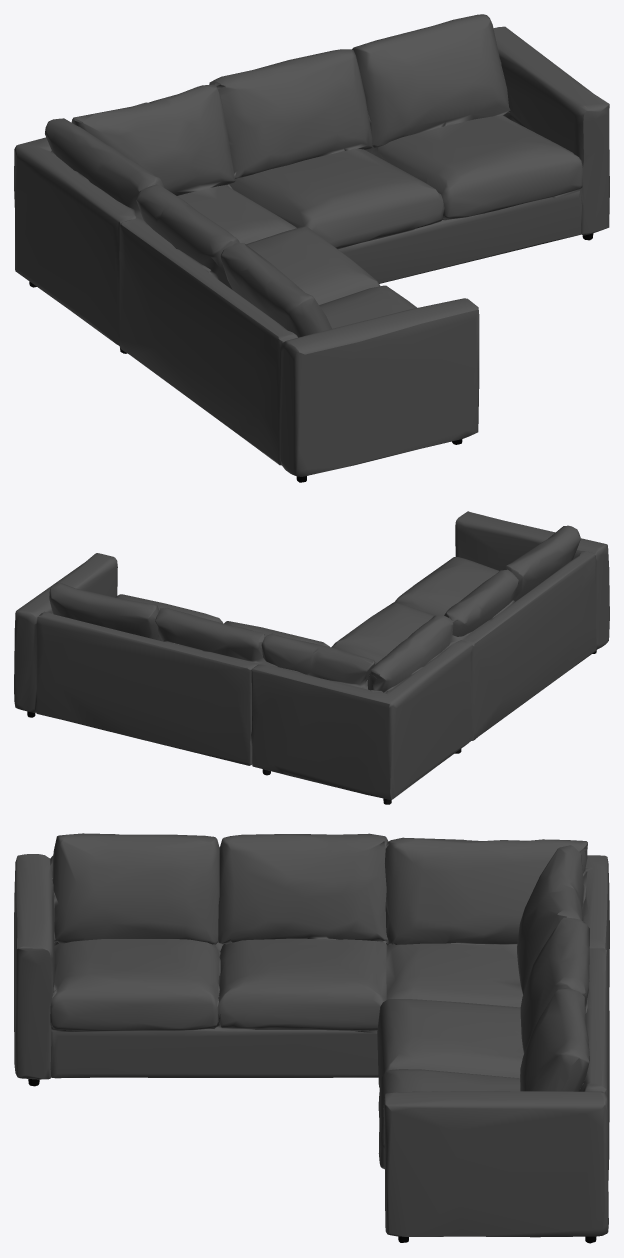
Rendered from ikea-vimle-corner.glb.
The picture shows the model from 3 angles, top to bottom: view 1: azimuth 30°, elevation 25°; view 2: azimuth 150°, elevation 25°; view 3: azimuth 270°, elevation 25°; orthographic projection. The views are drawn at different scales.
Parts seen in each view (by area): view 1: ProcessedMeshNode; view 2: ProcessedMeshNode; view 3: ProcessedMeshNode.
Part boxes in pixels (left/top/right/bottom): ProcessedMeshNode: left=14, top=14, right=609, bottom=482; ProcessedMeshNode: left=14, top=511, right=609, bottom=804; ProcessedMeshNode: left=14, top=833, right=609, bottom=1243.
Bounding box in the file's own units: 2.51 × 0.828 × 2.5.
Materials: 1 (1 with a texture image).
